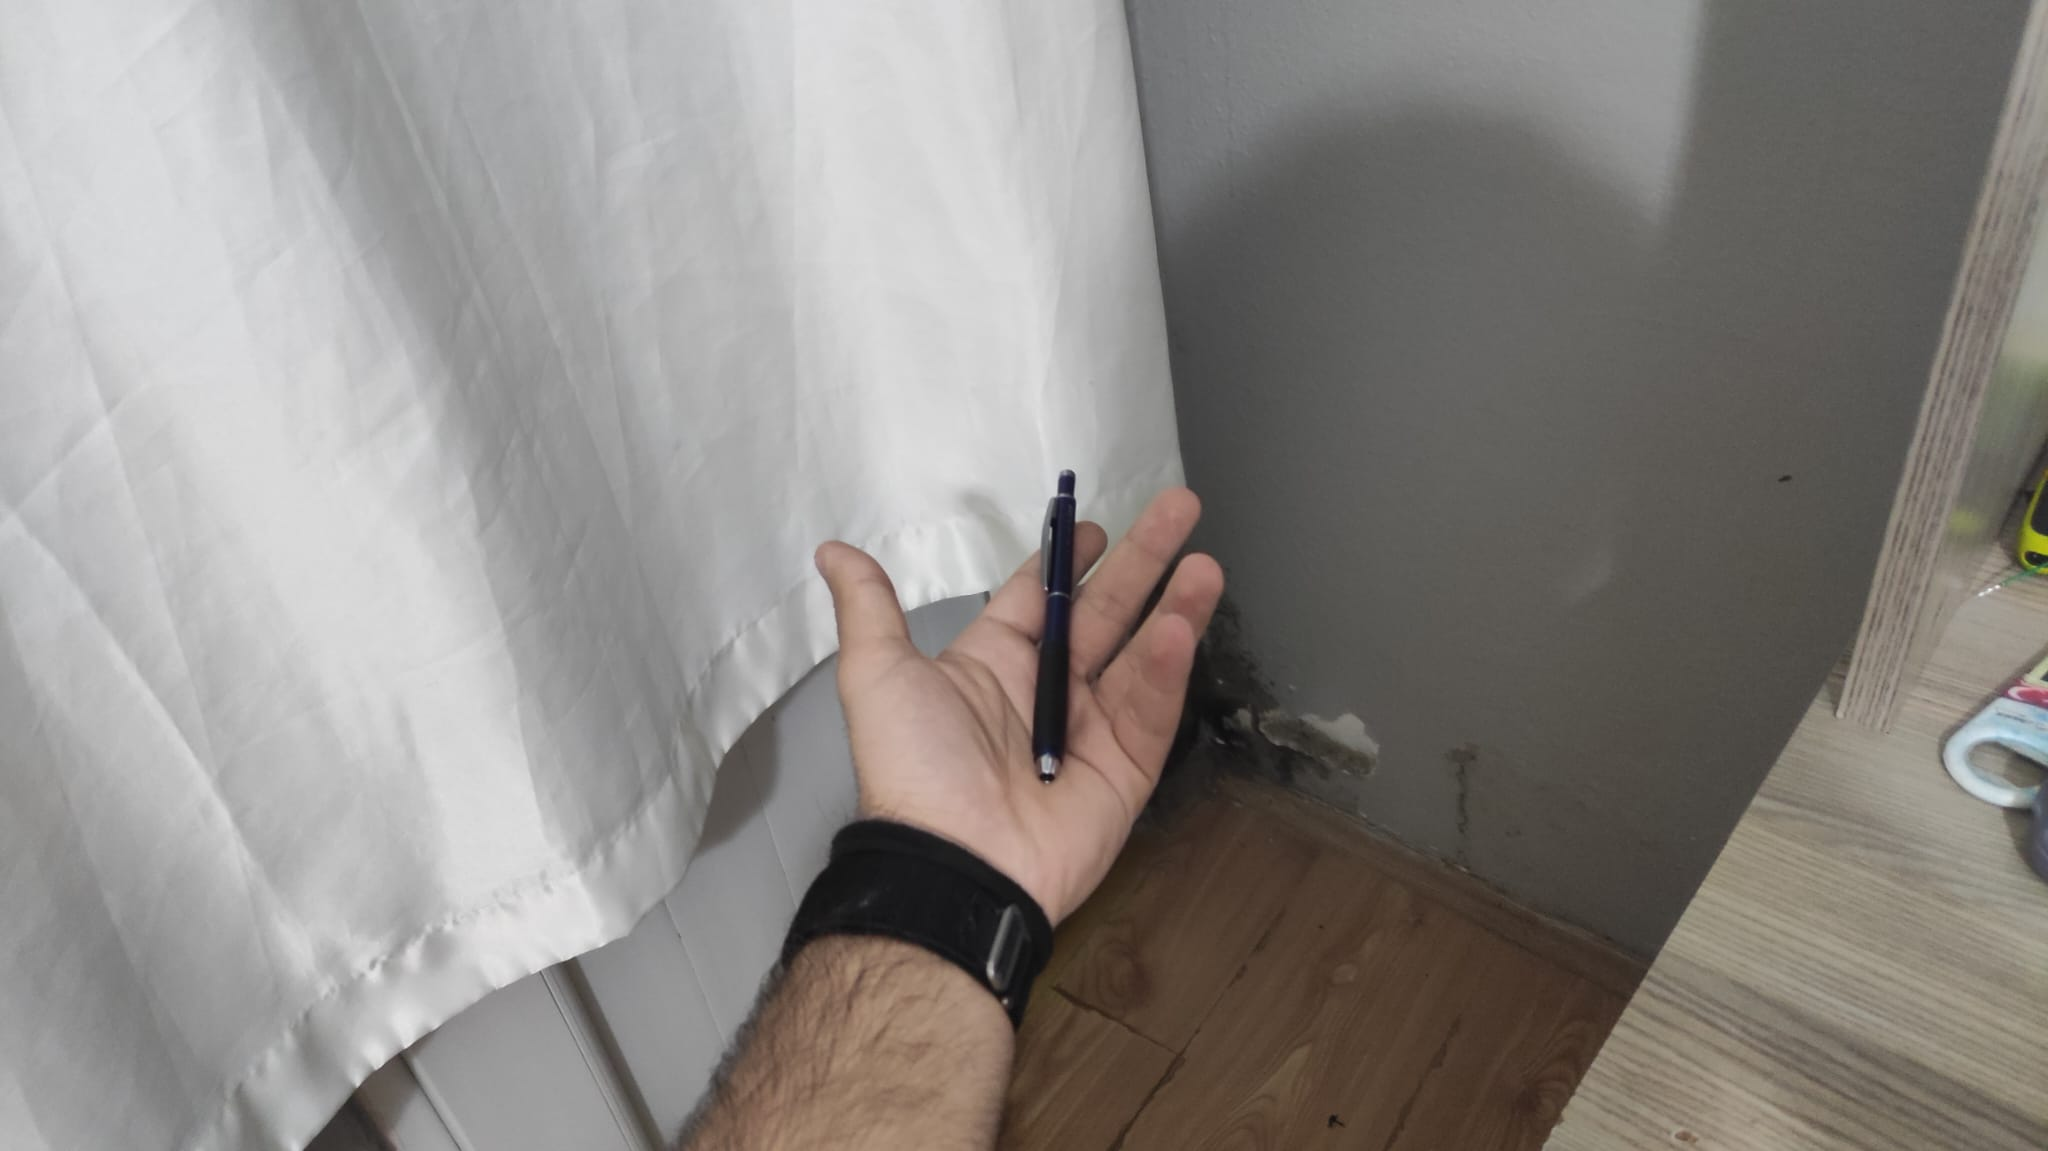kalem: (1027, 462, 1077, 780)
